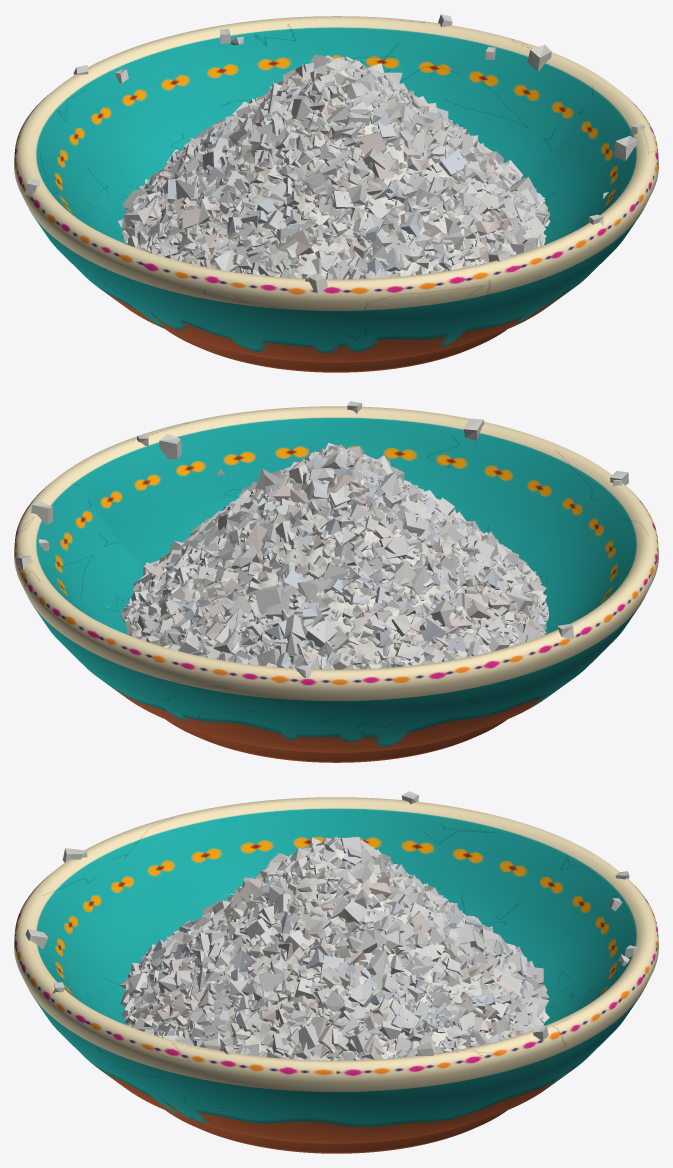
File: salt_dish.glb
3 views of the same model, one above another, from view 1: azimuth 30°, elevation 25°; view 2: azimuth 150°, elevation 25°; view 3: azimuth 270°, elevation 25° (orthographic).
Visible parts, largest first — view 1: salt_dish; view 2: salt_dish; view 3: salt_dish.
Boxes of the visible parts, x1=… form: salt_dish: x1=14, y1=14, x2=658, y2=372; salt_dish: x1=14, y1=401, x2=658, y2=762; salt_dish: x1=14, y1=791, x2=658, y2=1153.
Size of the model in its own units: 0.0822 by 0.0329 by 0.0822.
3 materials, 2 textured.
